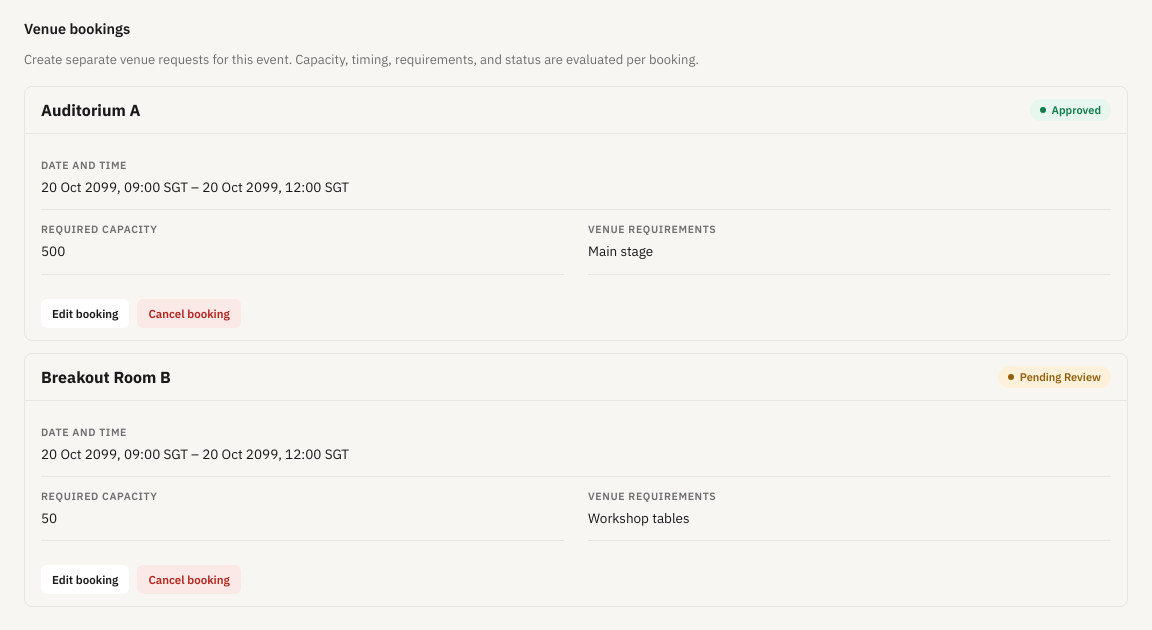
Scenario: stale cancel refreshes immutable request while retaining replacement draft
Expected: the text "Auditorium A" is shown, [41,100,140,120]
Step 1. Click the button "Edit booking" below "500" → (85, 313), box [41,299,129,328]
(page scrolled)
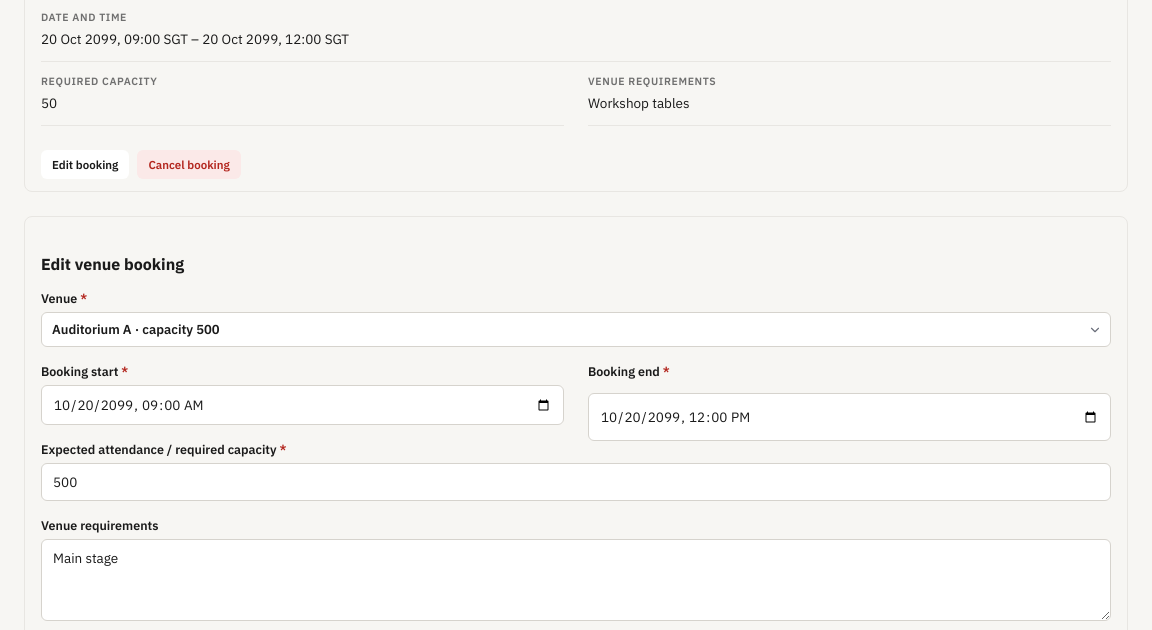
Step 2. Replace the text in the text box labelled "Venue requirements" with "Keep this draft" → (576, 580), box [41,539,1111,621]
(page scrolled)
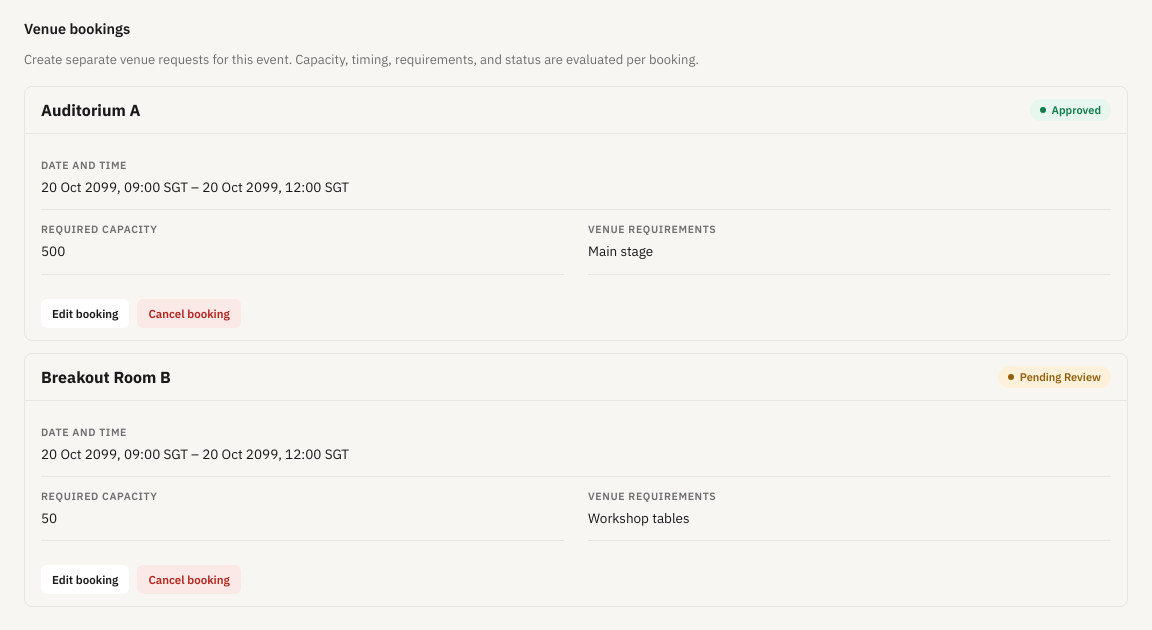
Step 3. Click the button "Cancel booking" below "500" → (189, 313), box [137,299,241,328]
(page scrolled)
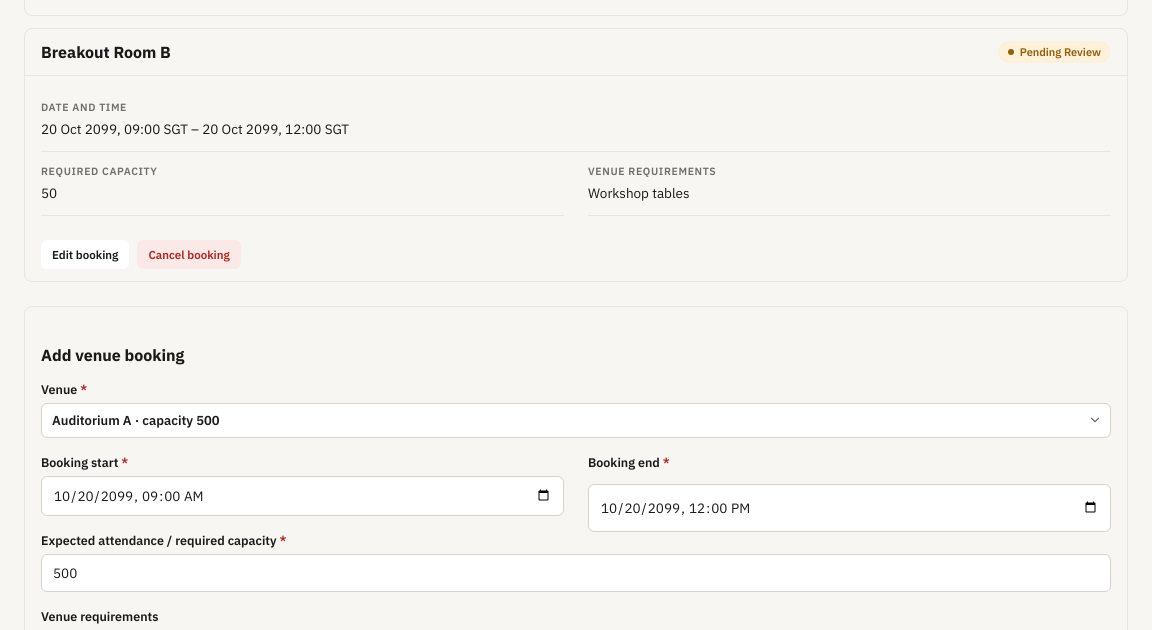
Expected: the heading "Add venue booking" is shown, [41,345,184,365]
